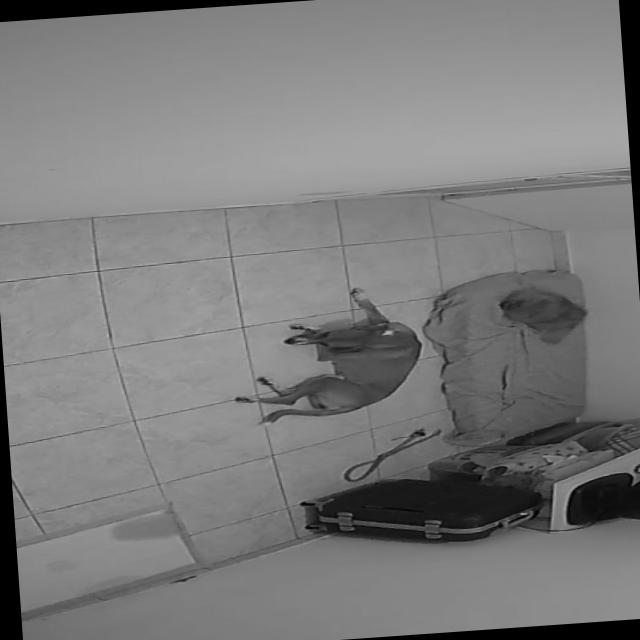laying down: (221, 282, 434, 432), (492, 278, 594, 349)
